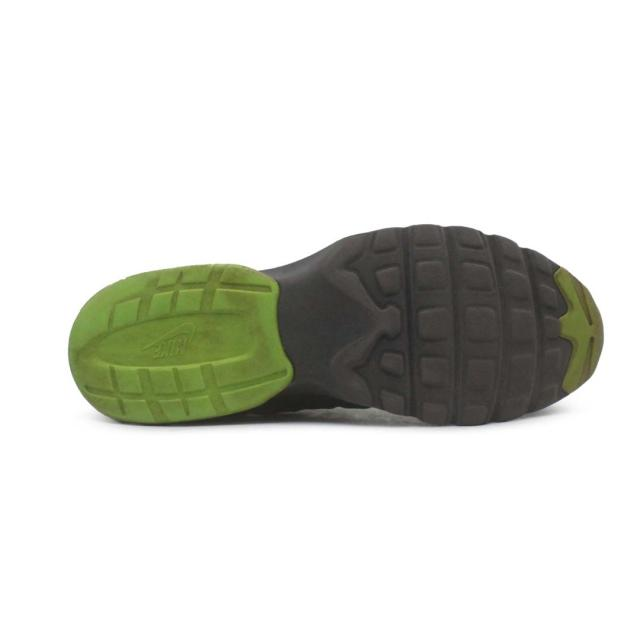outersole: (69, 223, 605, 427)
